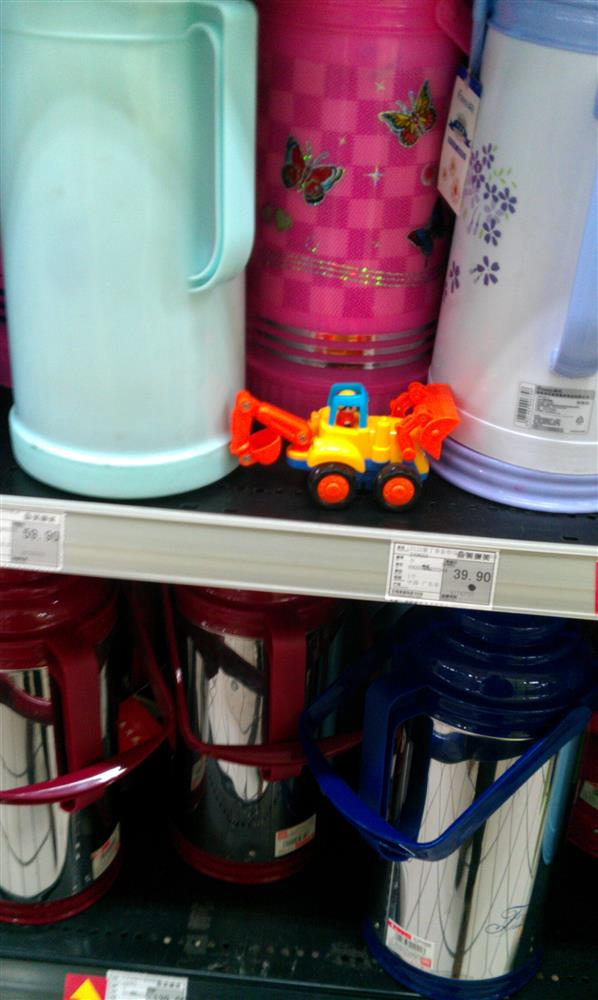navvy: (214, 372, 464, 515)
